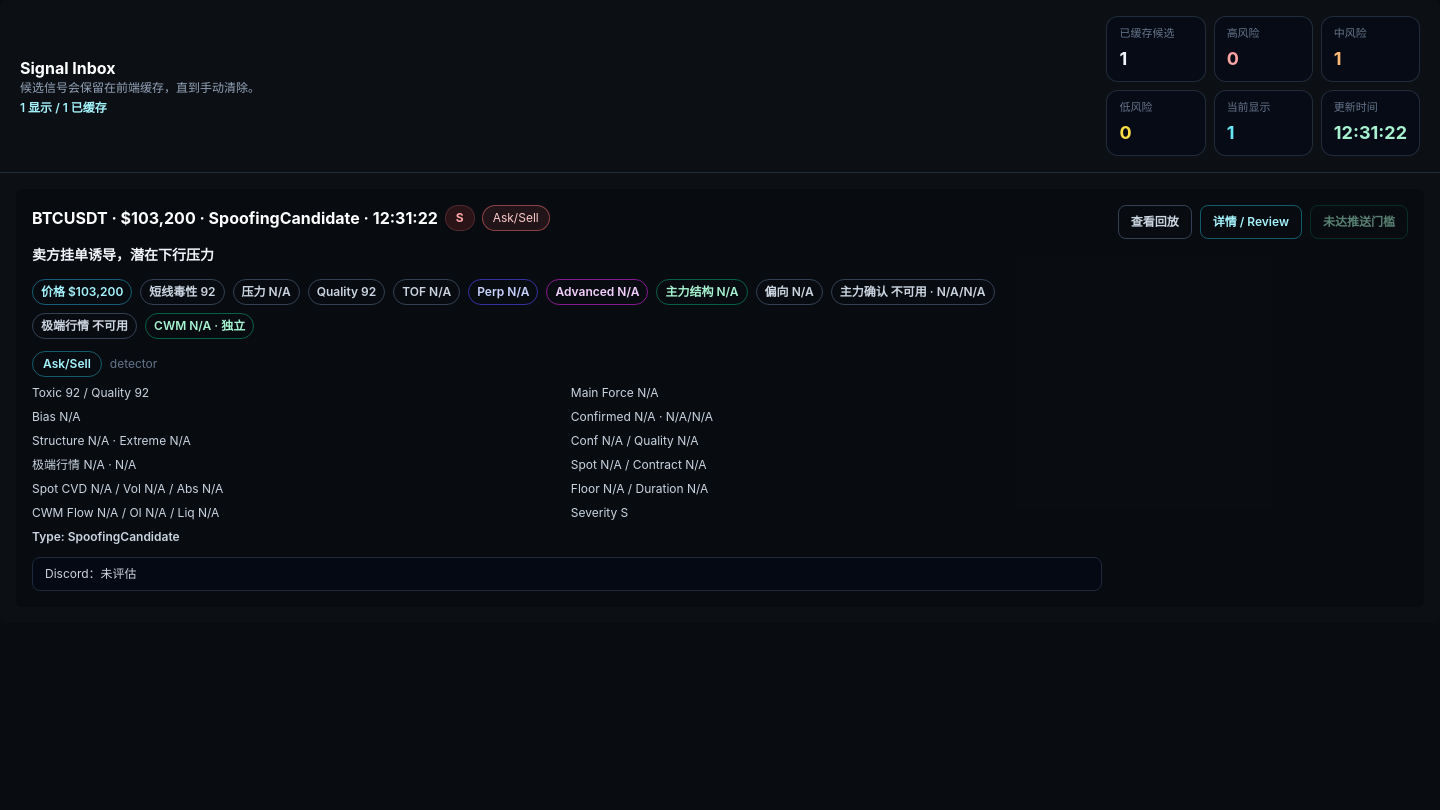
Test case: Signal inbox card display › opens redacted replay snapshot when replay data exists
What coordinates should you click on to do the following:
click the button with aria-label "查看回放 sig_001"
I would click on:
 (1155, 222)
Its box is [1118,205,1192,239].
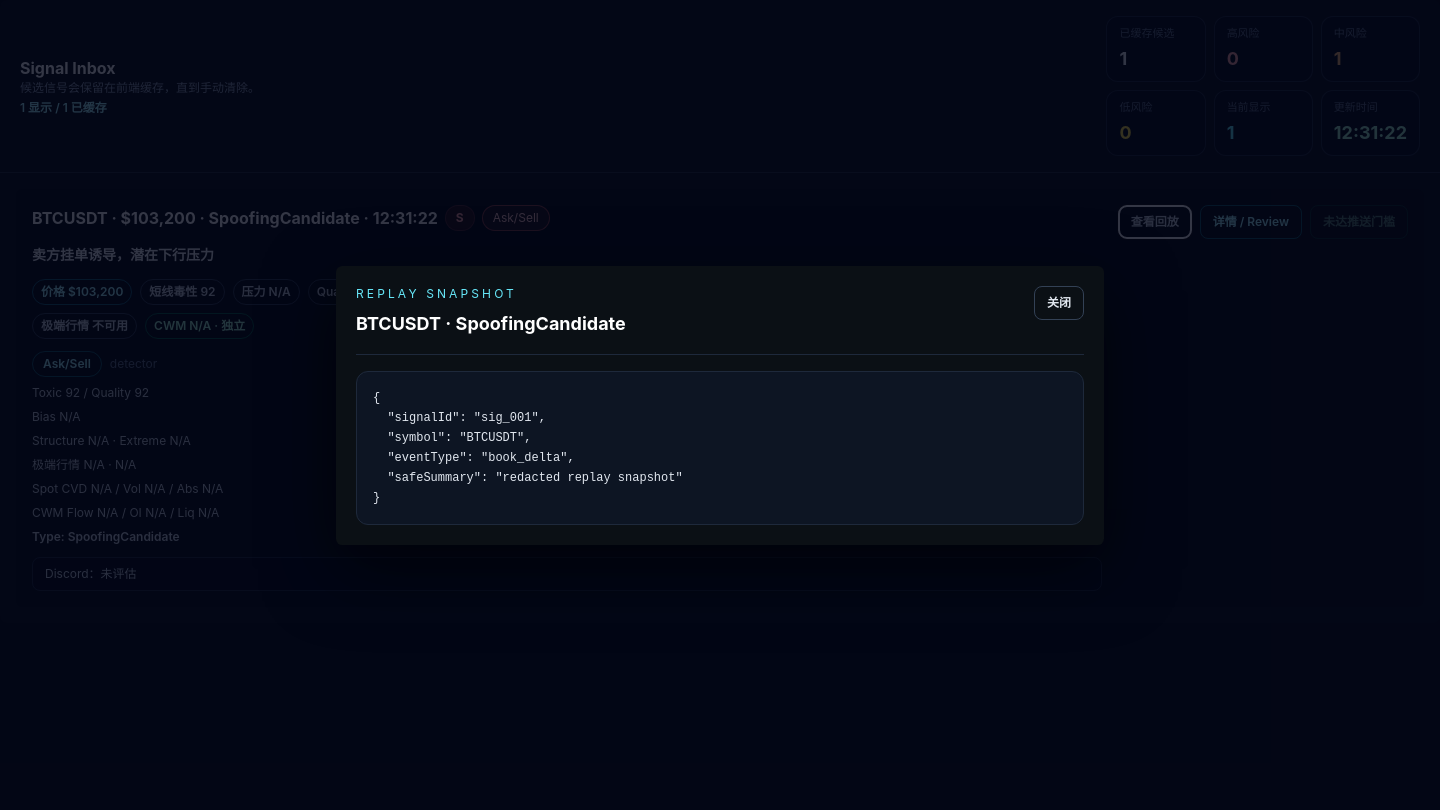
Expected: the text "Replay Snapshot" is shown, [356,286,517,300]
Expected: the text "redacted replay snapshot" is shown, [373,390,683,504]
